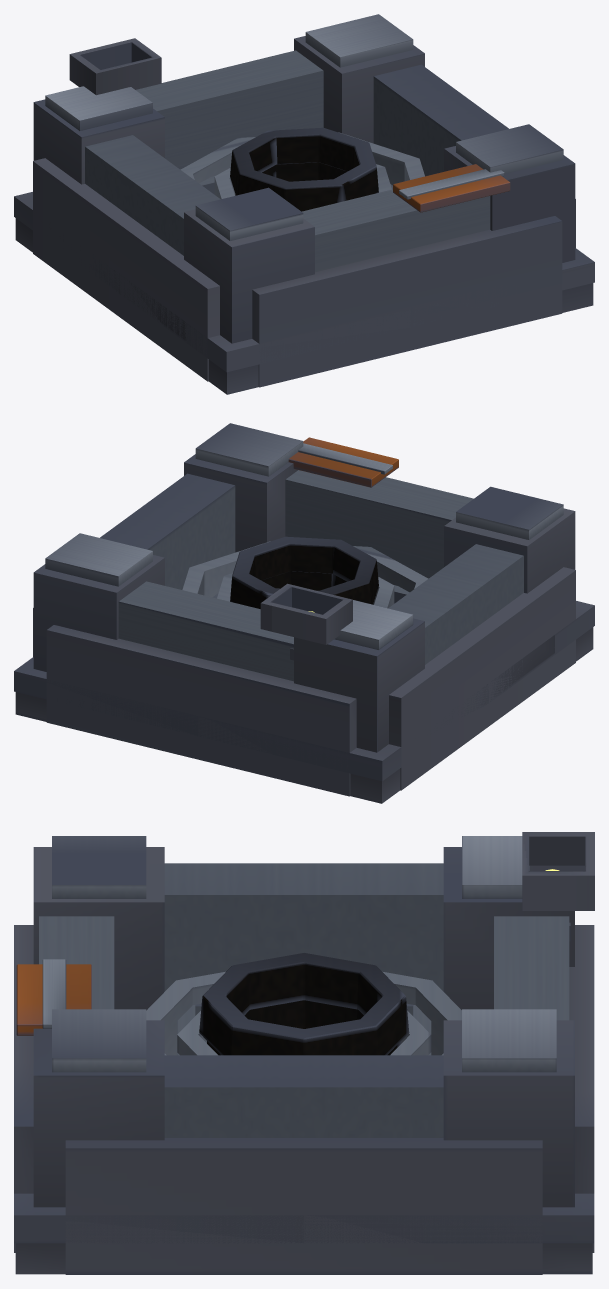
The model's file is massline_core_lod1.glb.
3 views of the same model, one above another, from view 1: azimuth 30°, elevation 25°; view 2: azimuth 150°, elevation 25°; view 3: azimuth 270°, elevation 25° (orthographic). The views are drawn at different scales.
Parts seen in each view (by area): view 1: LOD1_massline_core, LOD1_massline_core_lamp; view 2: LOD1_massline_core, LOD1_massline_core_lamp; view 3: LOD1_massline_core, LOD1_massline_core_lamp.
Boxes of the visible parts, x1=… form: LOD1_massline_core: x1=14, y1=14, x2=594, y2=394; LOD1_massline_core_lamp: x1=69, y1=38, x2=161, y2=95; LOD1_massline_core: x1=14, y1=423, x2=594, y2=803; LOD1_massline_core_lamp: x1=260, y1=583, x2=352, y2=660; LOD1_massline_core: x1=14, y1=836, x2=594, y2=1274; LOD1_massline_core_lamp: x1=522, y1=832, x2=594, y2=941.
Bounding box in the file's own units: 2.08 × 0.928 × 2.08.
1 material, 1 textured.
